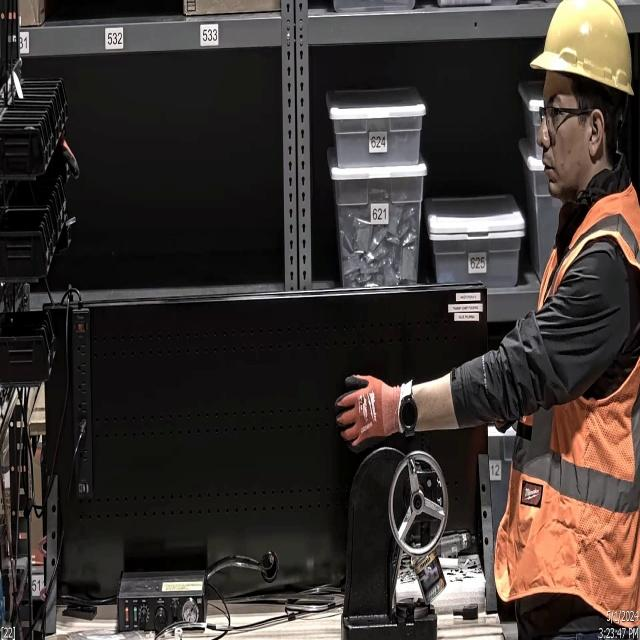gloves: (334, 372, 409, 454)
